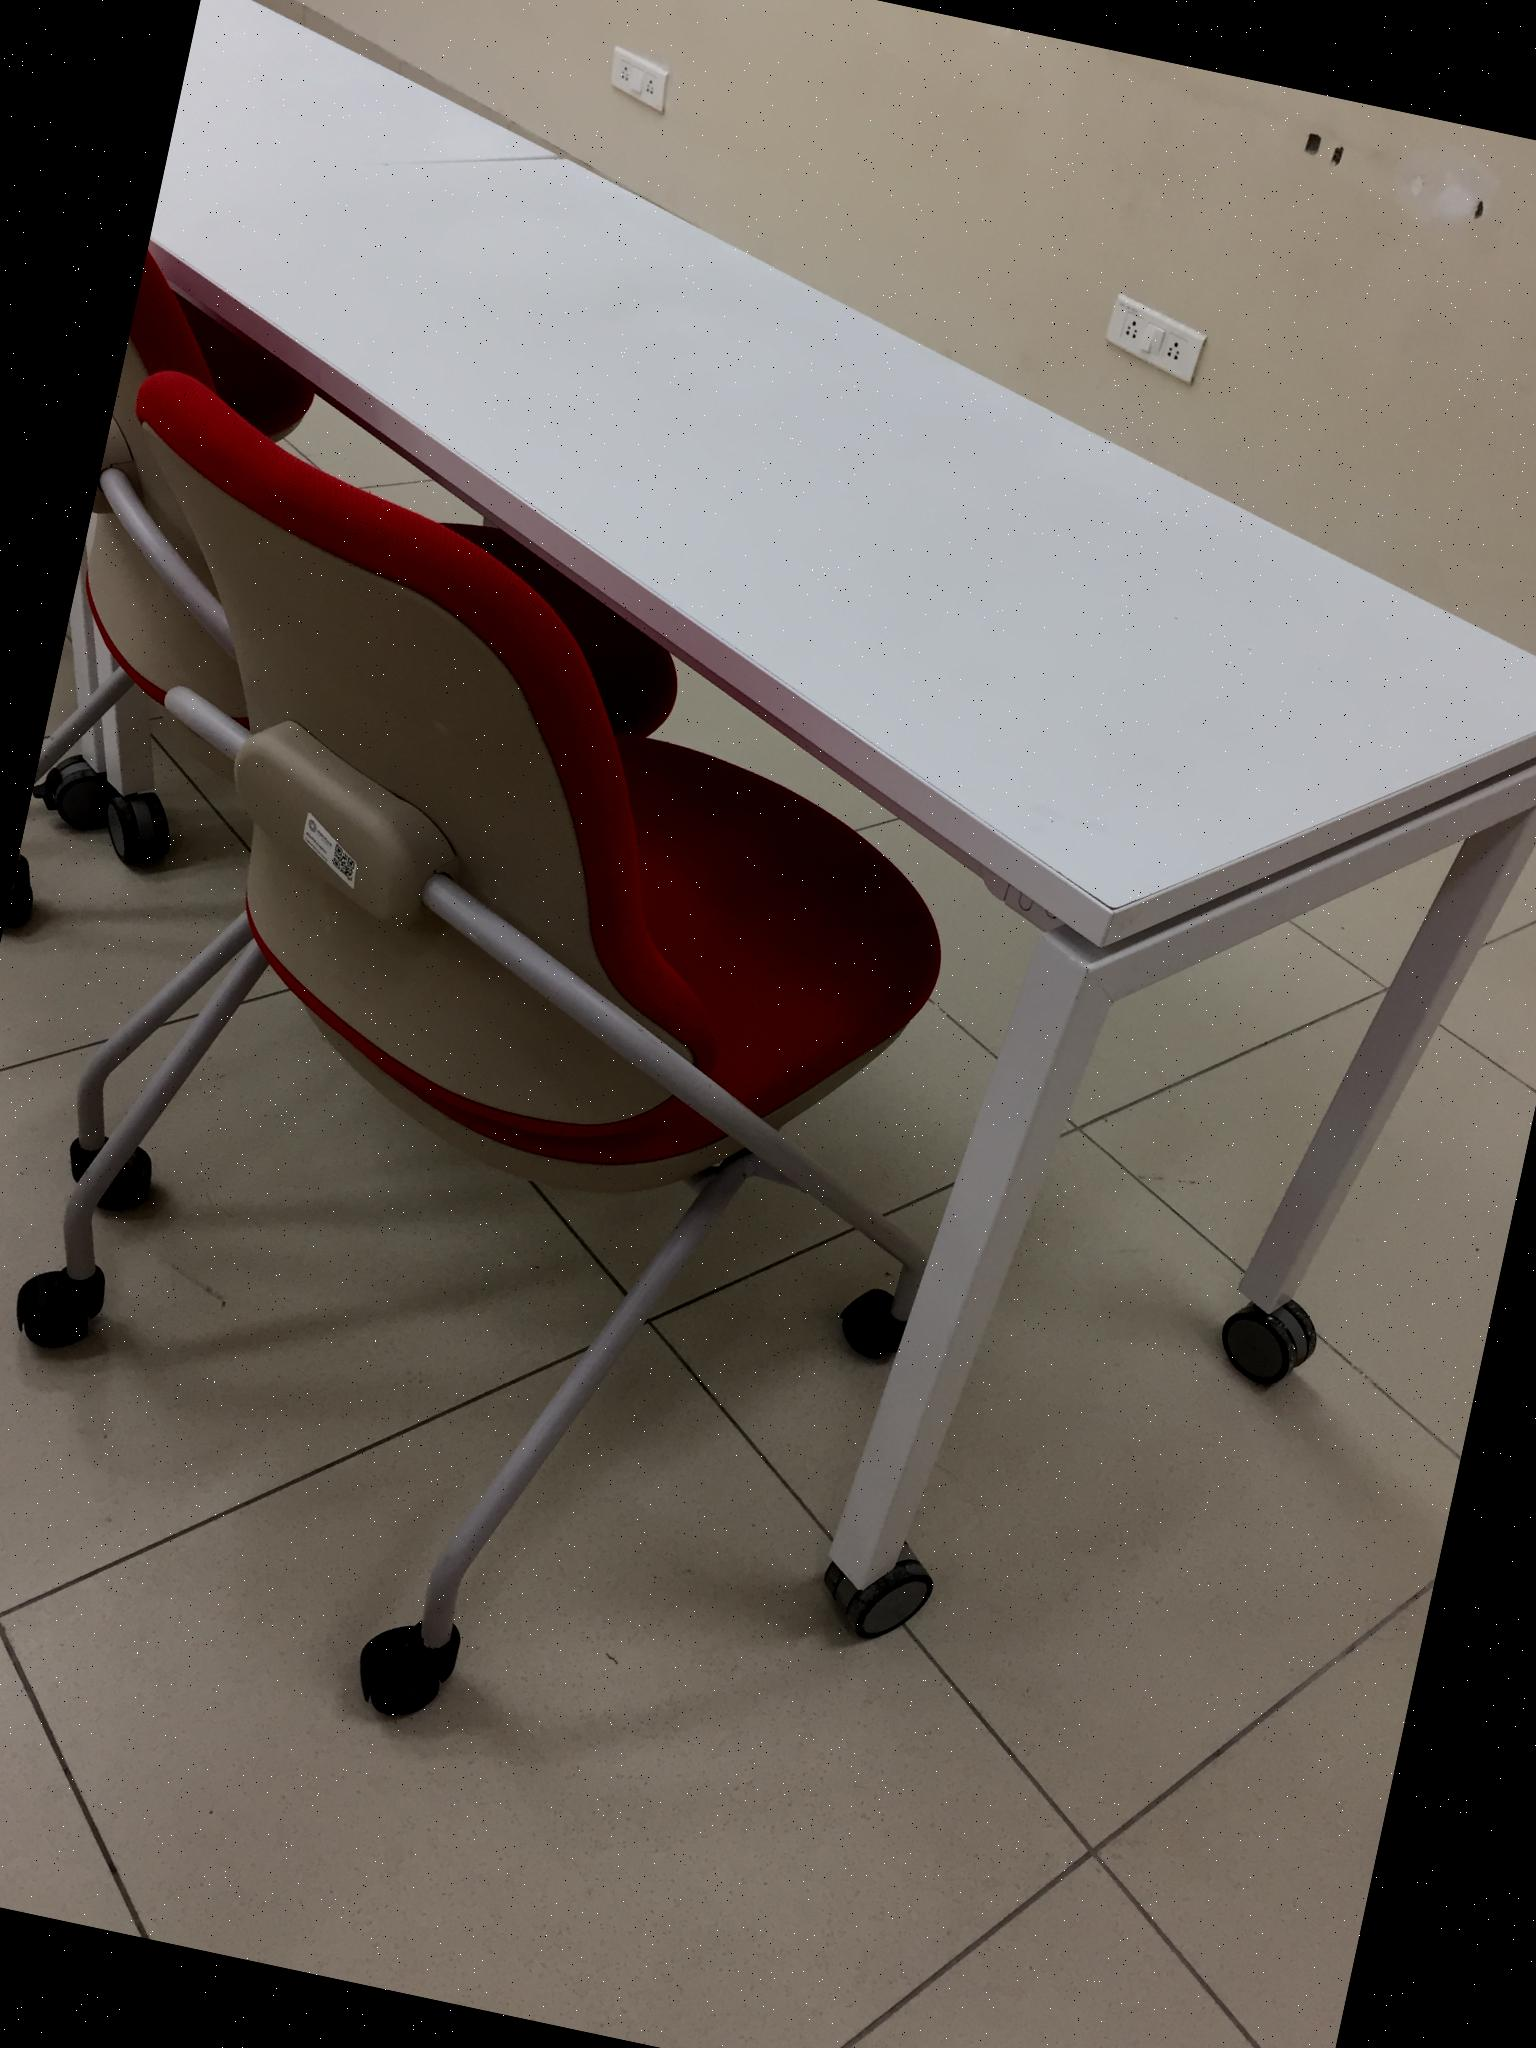chair: (0, 347, 1079, 1804)
